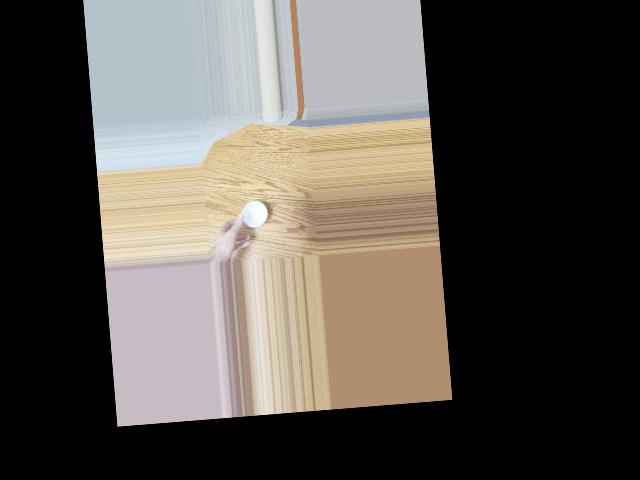cotage: (236, 196, 270, 231)
